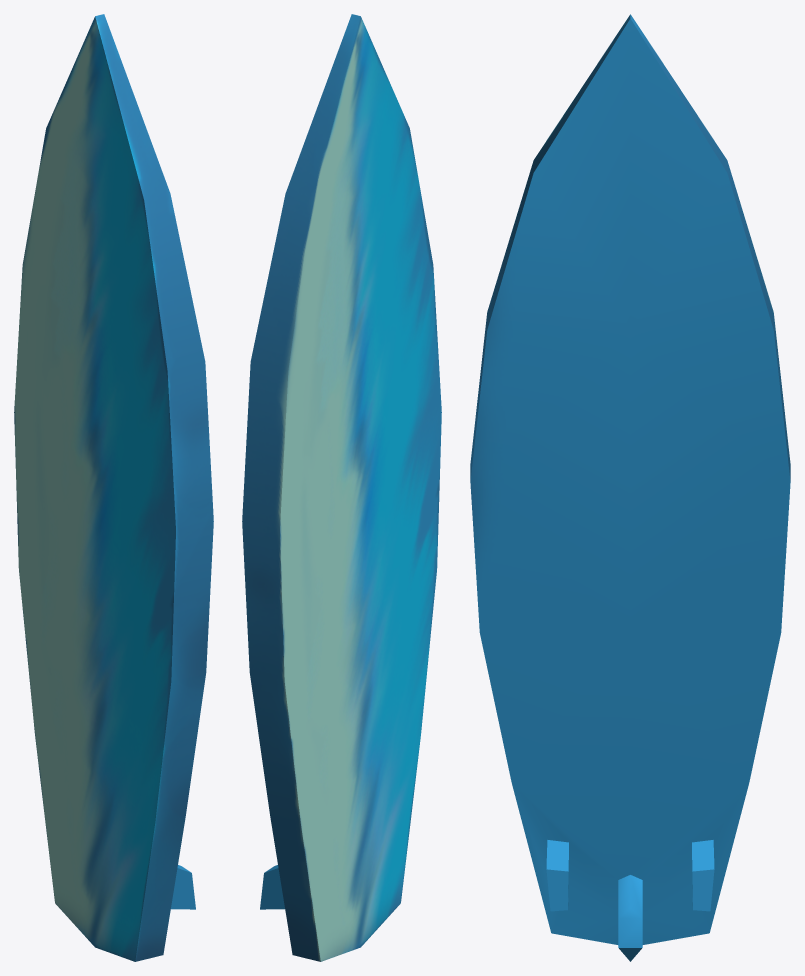
Rendered from surfboard.FBX.
3 renders of one model, left to right at view 1: azimuth 30°, elevation 25°; view 2: azimuth 150°, elevation 25°; view 3: azimuth 270°, elevation 25°, orthographic.
Visible parts, largest first — view 1: ss; view 2: ss; view 3: ss.
Part boxes in pixels (bbox=[...]): ss: bbox=[14, 14, 213, 961]; ss: bbox=[242, 14, 441, 961]; ss: bbox=[470, 14, 790, 961].
Bounding box in the file's own units: 10.89 × 144 × 45.35.
